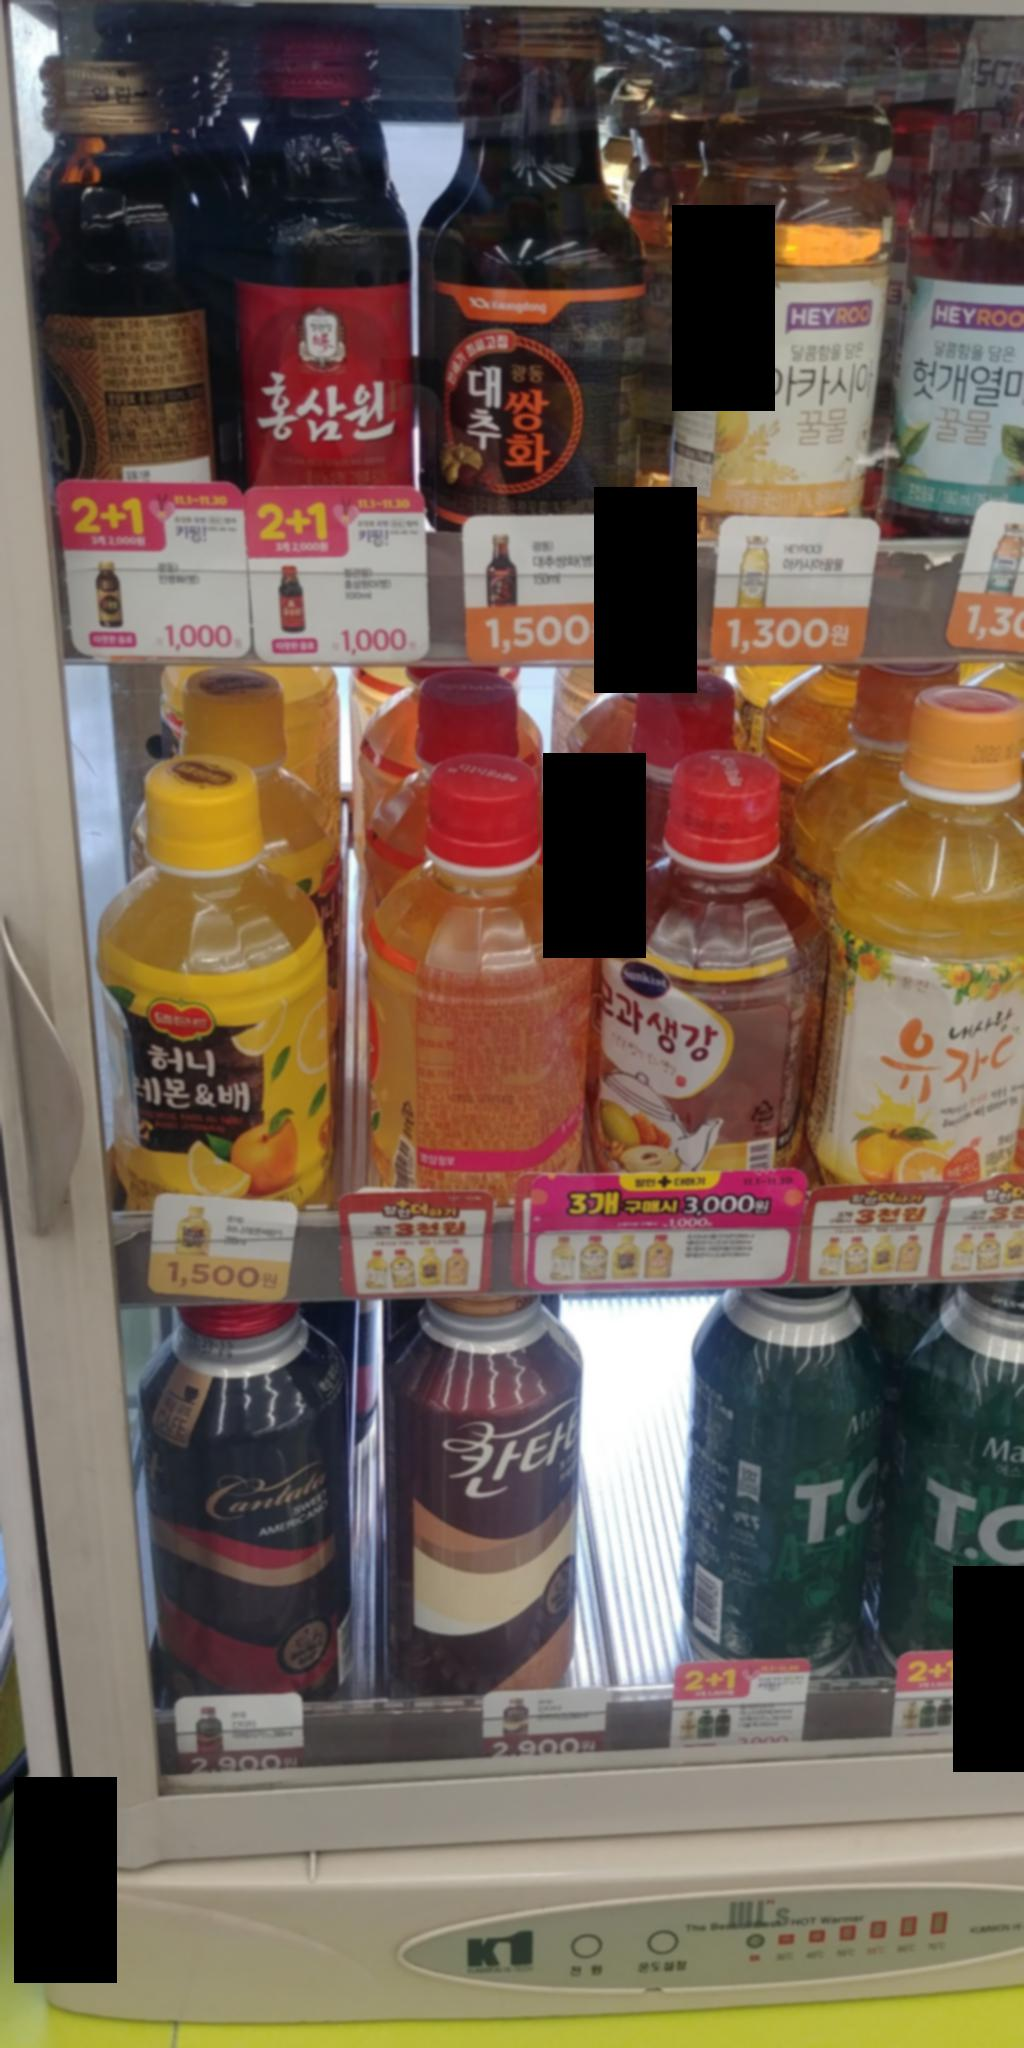honeyyuja: (337, 768, 631, 1211)
